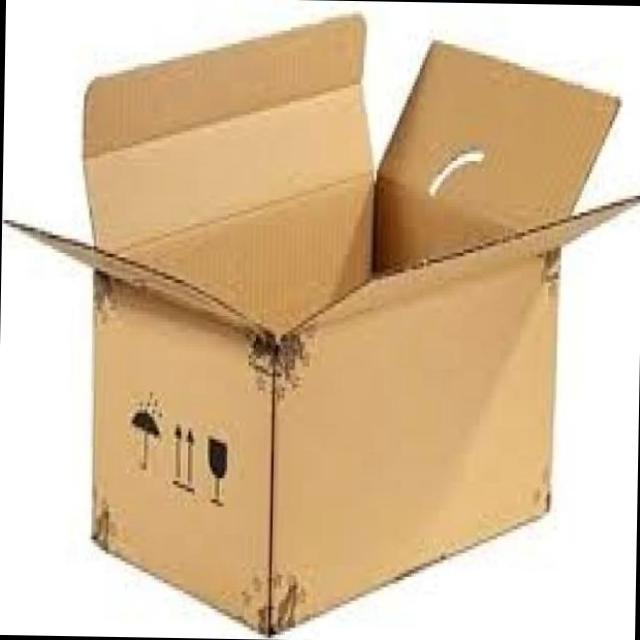cardboard paper: (61, 14, 616, 631), (91, 239, 558, 631), (82, 14, 369, 330), (373, 40, 617, 268)
